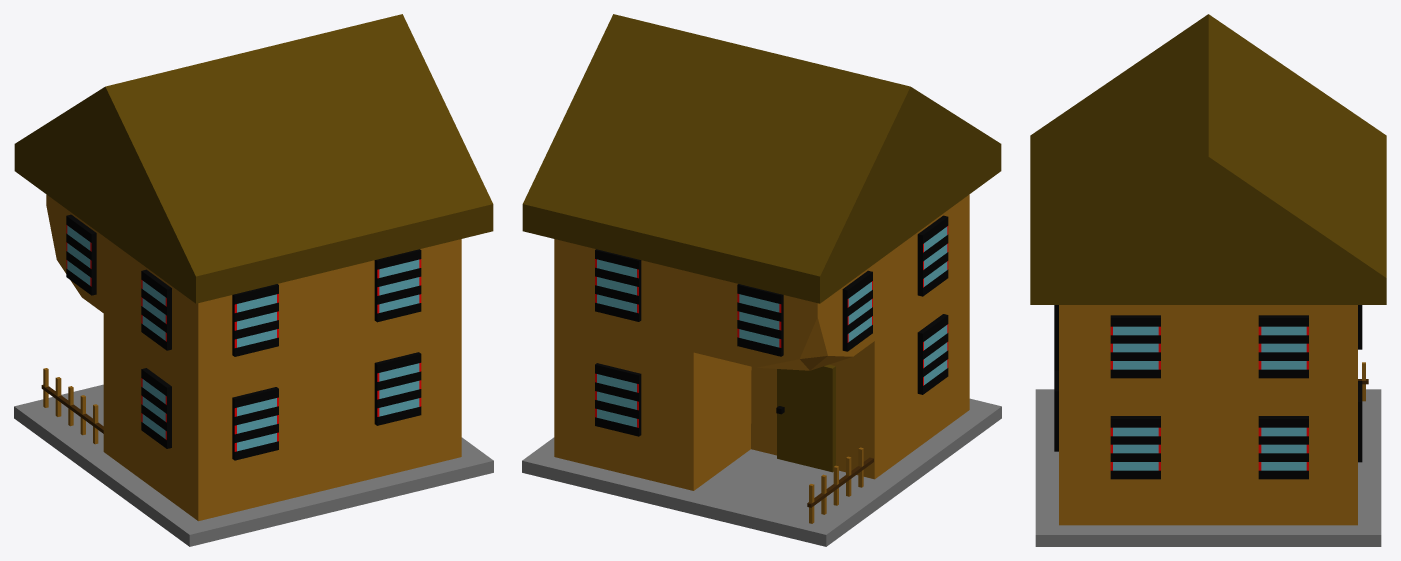
File: House20.fbx
3 renders of one model, left to right at view 1: azimuth 30°, elevation 25°; view 2: azimuth 150°, elevation 25°; view 3: azimuth 270°, elevation 25°, orthographic.
Parts seen in each view (by area): view 1: House.020; view 2: House.020; view 3: House.020.
Part boxes in pixels (x1=…): House.020: x1=14, y1=14, x2=493, y2=546; House.020: x1=522, y1=14, x2=1001, y2=546; House.020: x1=1030, y1=14, x2=1386, y2=546.
Size of the model in its own units: 713 by 885 by 736.
